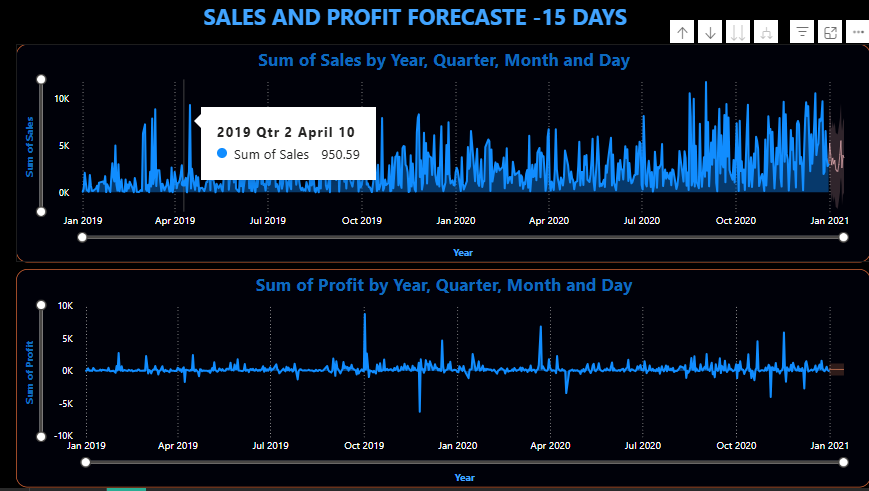

The page's visual inventory and layout, read from the dashboard file:
{"tool":"powerbi","page":{"name":"Page 2","canvas":[1280,720],"ordinal":1},"visuals":[{"type":"lineChart","fields":{"Y":["Sum(Sheet1.Sales)"],"Category":["Sheet1.Order Date.Variation.Date Hierarchy.Year","Sheet1.Order Date.Variation.Date Hierarchy.Quarter","Sheet1.Order Date.Variation.Date Hierarchy.Month","Sheet1.Order Date.Variation.Date Hierarchy.Day"]},"box":[23.9,67.2,1256.3,321.2],"z":0},{"type":"lineChart","fields":{"Category":["Sheet1.Order Date.Variation.Date Hierarchy.Year","Sheet1.Order Date.Variation.Date Hierarchy.Quarter","Sheet1.Order Date.Variation.Date Hierarchy.Month","Sheet1.Order Date.Variation.Date Hierarchy.Day"],"Y":["Sum(Sheet1.Profit)"]},"box":[23.9,398.8,1256.3,321.2],"z":1},{"type":"textbox","box":[293.9,0,683.3,67.6],"z":2}]}

Visuals, with their boxes in screenshot pixels (x1, y1, x2, y2), scaled from the page's 1280x720 canvas onto the 869x491 screenshot:
lineChart - Sum(Sheet1.Sales) x Sheet1.Order Date.Variation.Date Hierarchy.Year: 16:46:868:265
lineChart - Sheet1.Order Date.Variation.Date Hierarchy.Year x Sheet1.Order Date.Variation.Date Hierarchy.Quarter: 16:272:868:490
textbox: 200:0:663:46
